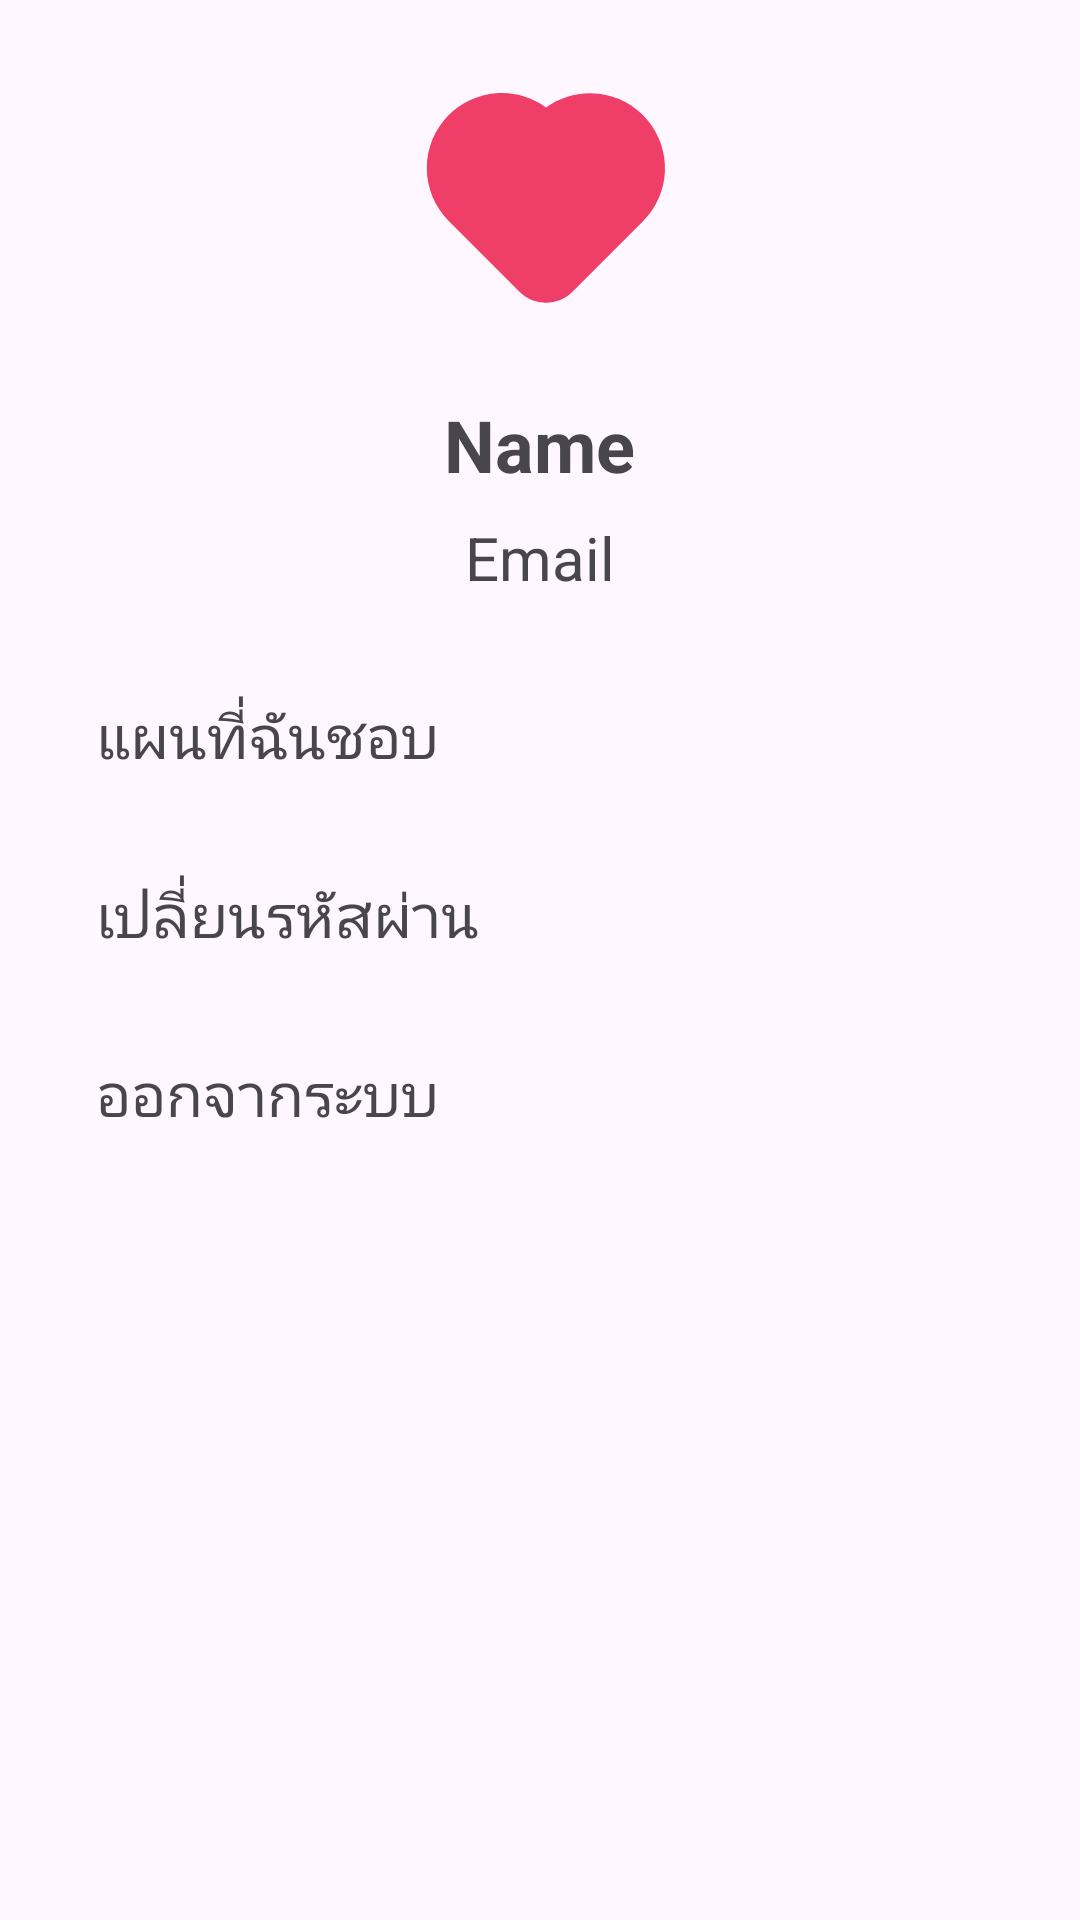

Icons on this 1080×1920 Android screen, each with its box as [x1=x1, y1=y1, x2=x2, y2=y2]:
iconamoon heart: [x1=426, y1=93, x2=665, y2=303]
